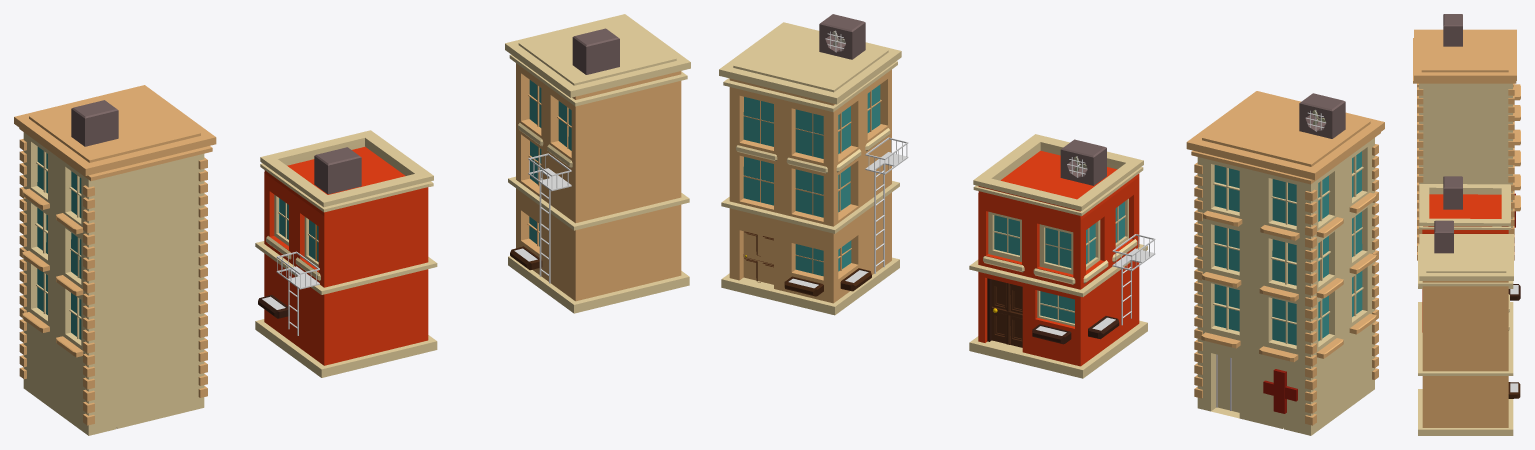
File: prédios.fbx
3 renders of one model, left to right at view 1: azimuth 30°, elevation 25°; view 2: azimuth 150°, elevation 25°; view 3: azimuth 270°, elevation 25°, orthographic. The views are drawn at different scales.
Visible parts, largest first — view 1: Cubo.019, Cubo.003, Plano.013; view 2: Cubo.019, Cubo.003, Plano.013; view 3: Cubo.003, Cubo.019, Plano.013.
Part boxes in pixels (x1,y1,x2,y2): Cubo.019: (14, 85, 216, 435); Cubo.003: (505, 14, 690, 313); Plano.013: (255, 130, 437, 377); Cubo.019: (1186, 91, 1384, 435); Cubo.003: (719, 14, 908, 315); Plano.013: (969, 134, 1155, 378); Cubo.003: (1418, 220, 1520, 435); Cubo.019: (1413, 14, 1520, 260); Plano.013: (1418, 176, 1520, 332).
Bounding box in the file's own units: 4209 × 1999 × 891.
